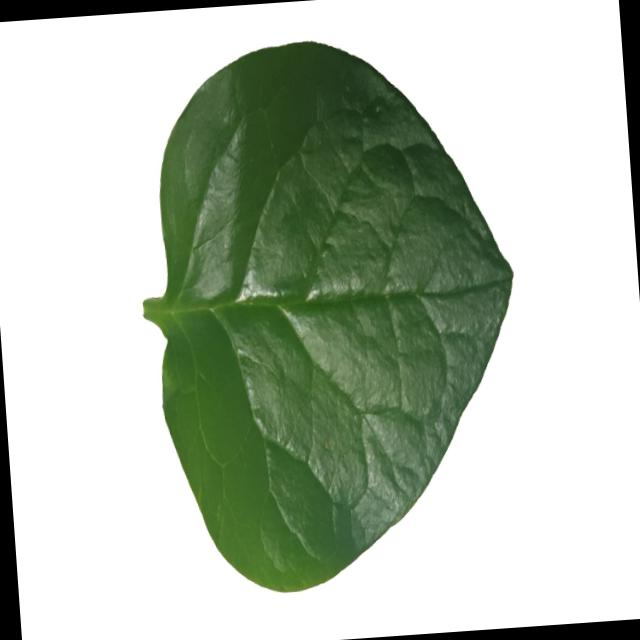Medicinal-Basale: (124, 24, 535, 598)
